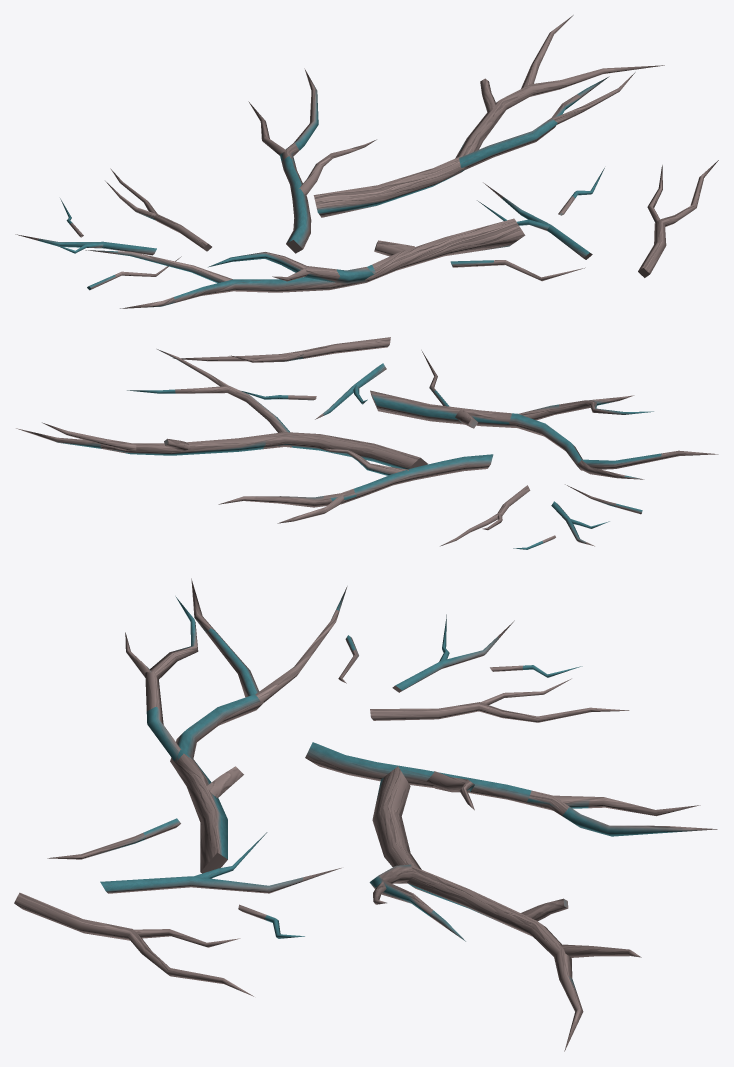
The picture shows the model from 3 angles, top to bottom: view 1: azimuth 30°, elevation 25°; view 2: azimuth 150°, elevation 25°; view 3: azimuth 270°, elevation 25°; orthographic projection. The views are drawn at different scales.
Visible parts, largest first — view 1: submesh_0; view 2: submesh_0; view 3: submesh_0.
Part boxes in pixels (x1,y1,x2,y2): submesh_0: (15, 15, 718, 308); submesh_0: (16, 337, 718, 549); submesh_0: (14, 578, 717, 1051).
Size of the model in its own units: 2.07 by 0.2207 by 1.42.
Materials: 1 (1 with a texture image).
